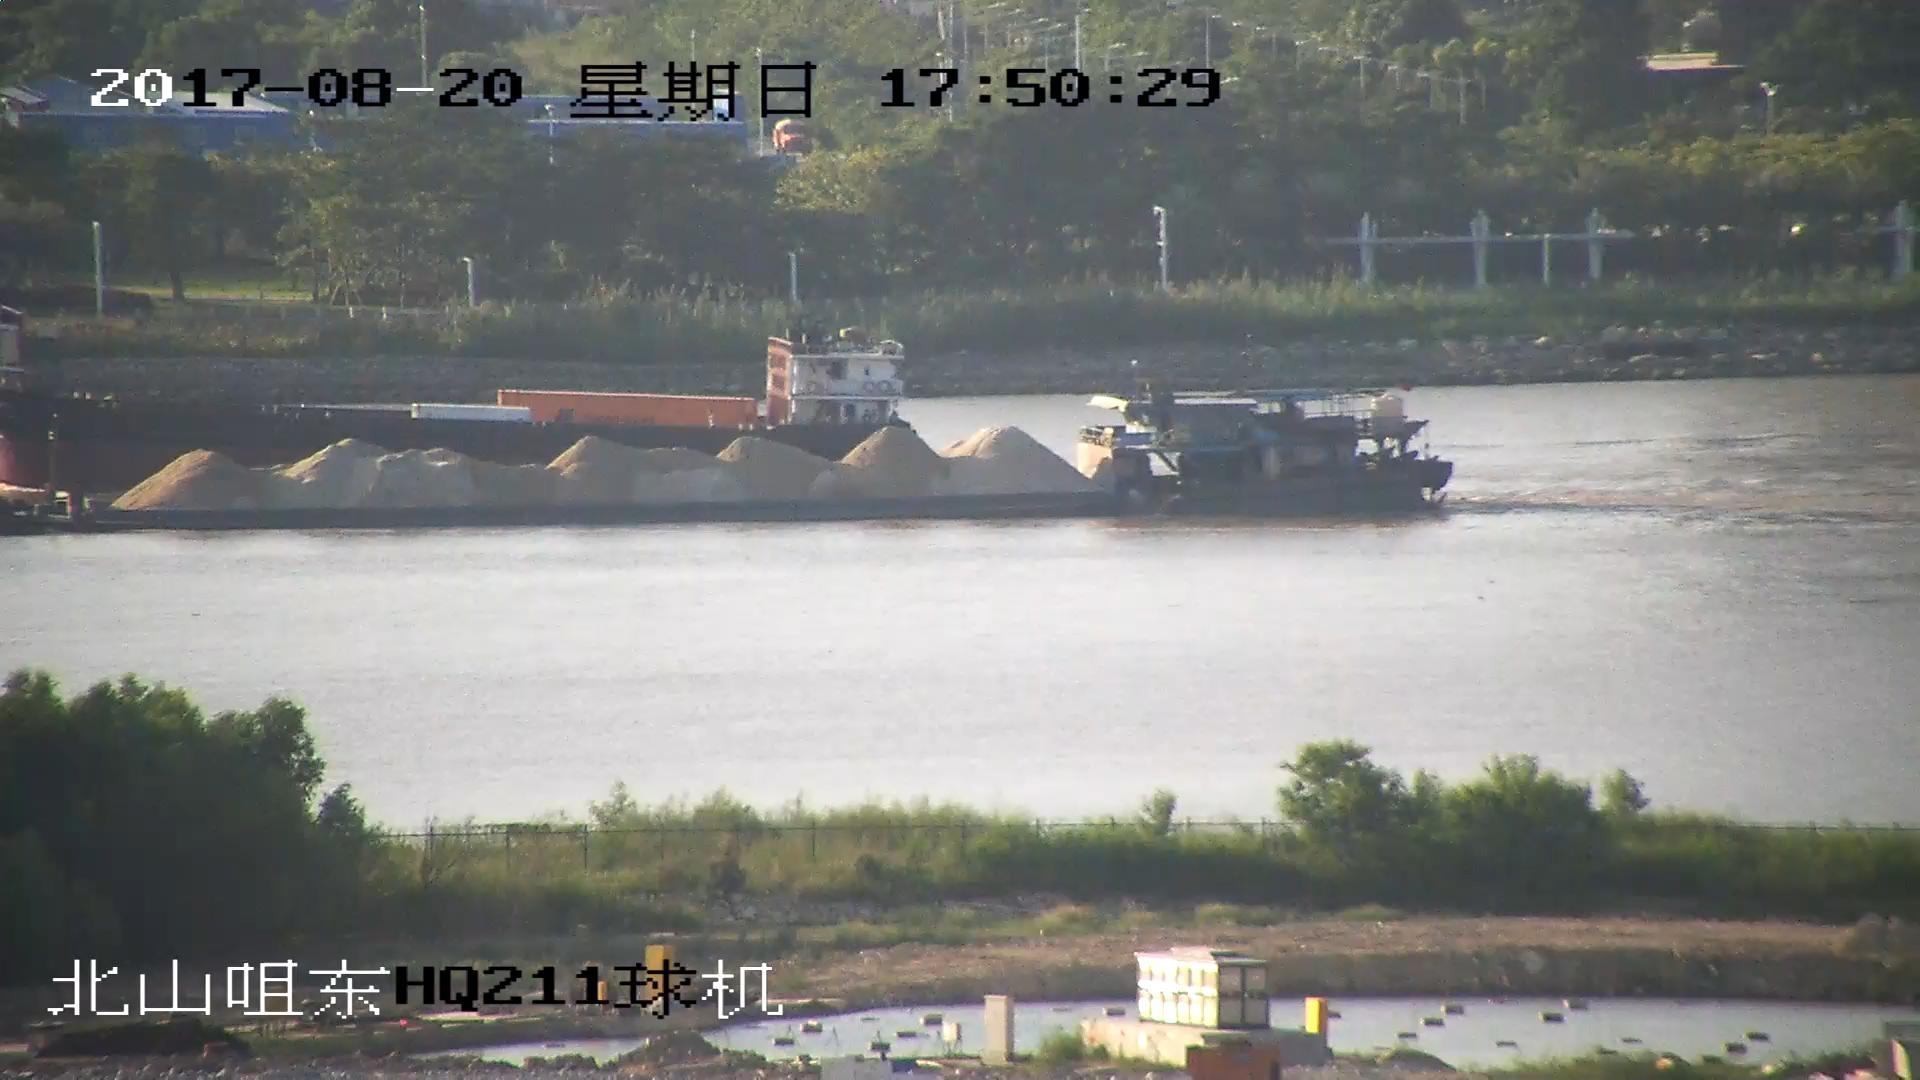Ship: (3, 386, 1447, 527), (3, 311, 916, 477)
